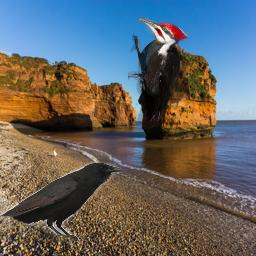Crow: (0, 161, 122, 242)
Woodpecker: (128, 17, 190, 121)
